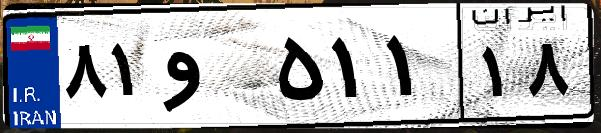1: (385, 28, 445, 110), (330, 28, 385, 110), (475, 38, 525, 113), (110, 28, 158, 98)
5: (270, 28, 330, 110)
8: (57, 26, 110, 100), (525, 38, 570, 115)
و: (158, 20, 270, 120)
